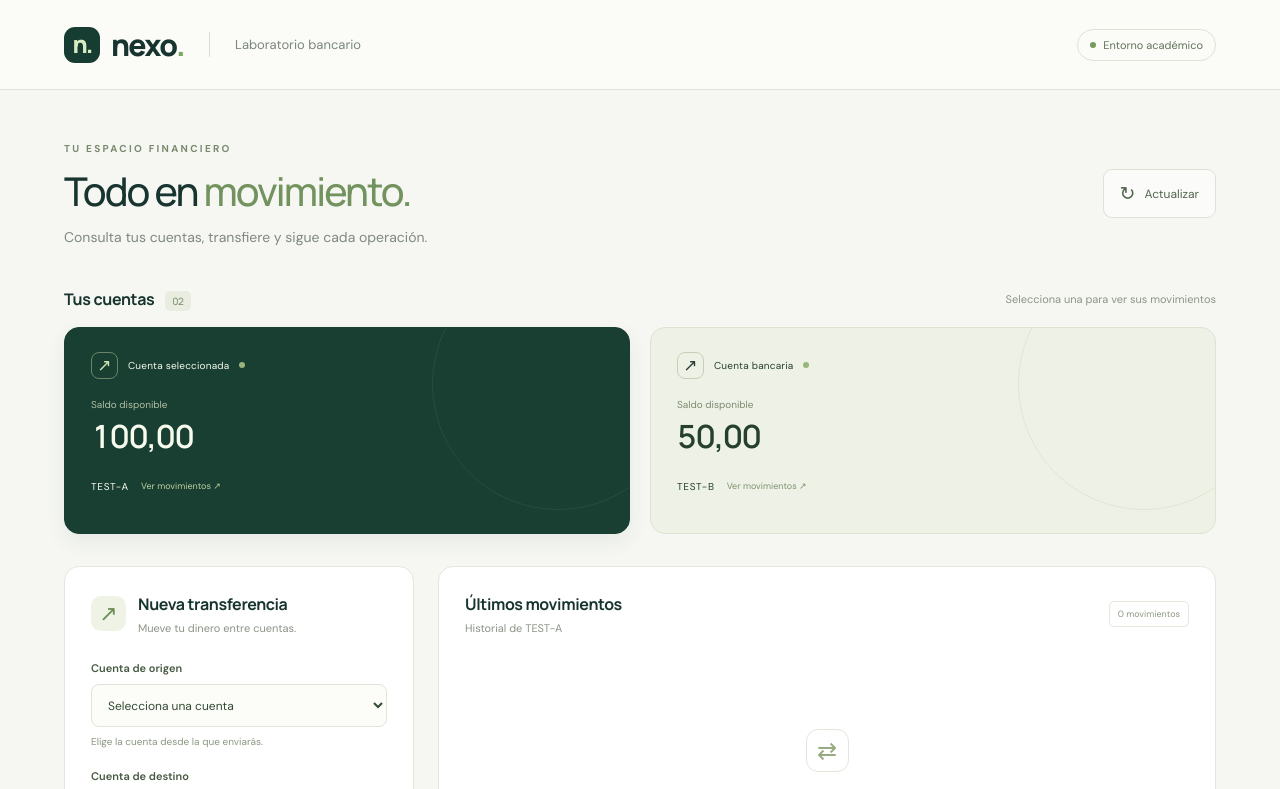
Test: banking workspace › loads real API contracts and switches account history
Click the button with aria-label "Ver historial de TEST-B" at [754, 365], box [650,327,1216,534]
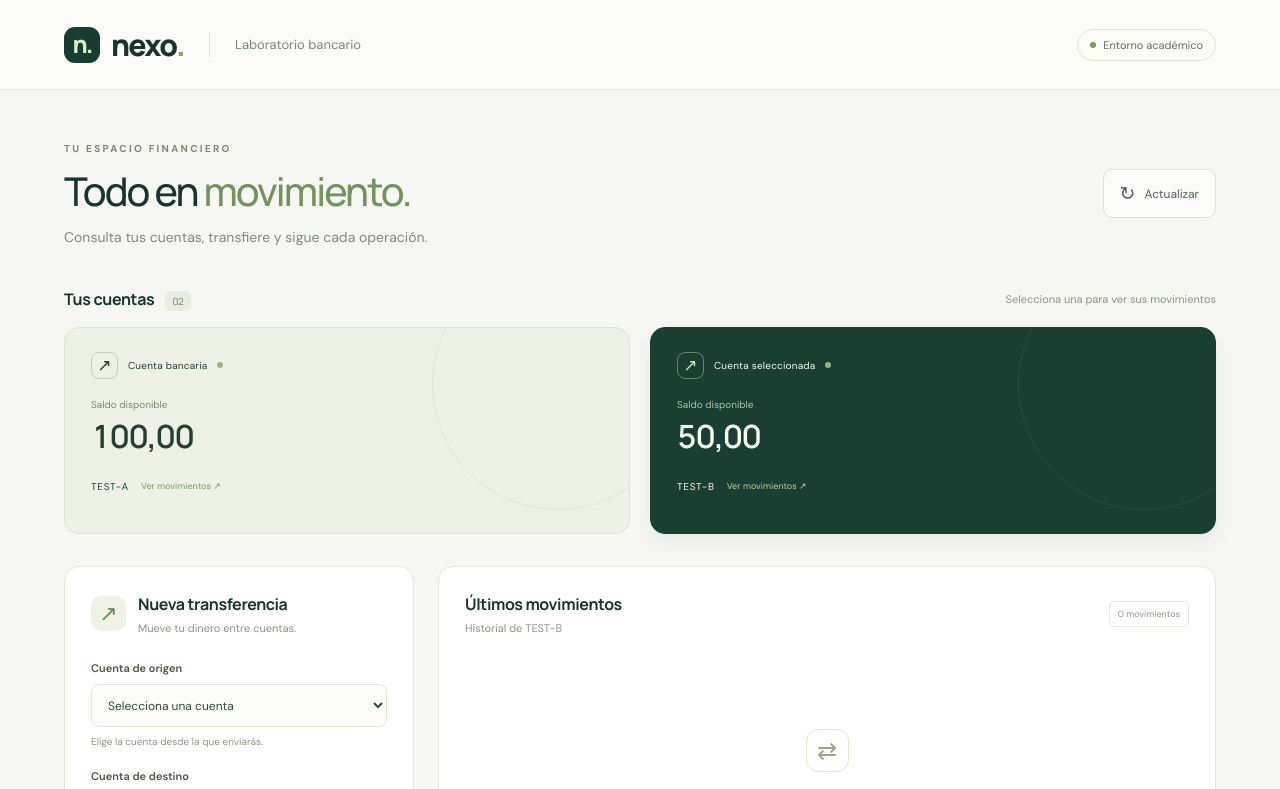
Expected: the text "Historial de TEST-B" is shown, [465,621,562,635]
